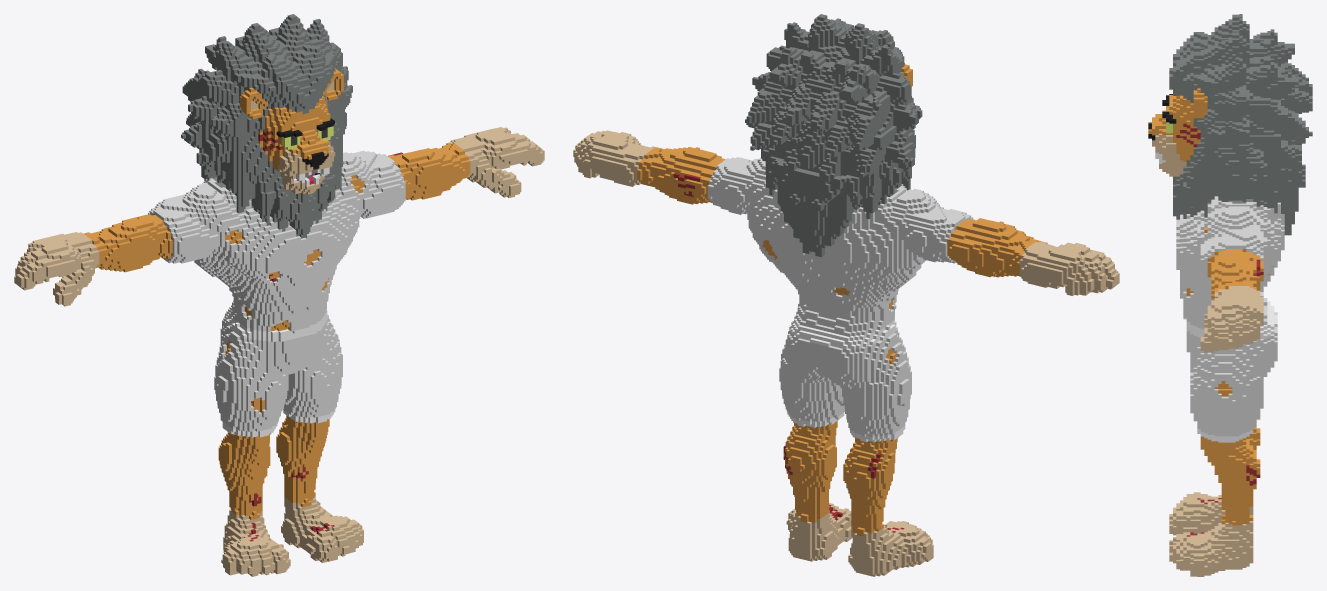
File: 79-DmoQ5ugm.glb
3 renders of one model, left to right at view 1: azimuth 30°, elevation 25°; view 2: azimuth 150°, elevation 25°; view 3: azimuth 270°, elevation 25°, orthographic. The views are drawn at different scales.
Visible parts, largest first — view 1: open; view 2: open; view 3: open.
Boxes of the visible parts, bbox=[...] form: open: bbox=[14, 14, 544, 576]; open: bbox=[573, 14, 1119, 576]; open: bbox=[1148, 14, 1312, 576].
Size of the model in its own units: 17.2 by 16.5 by 4.7.
5 materials, 5 textured.
